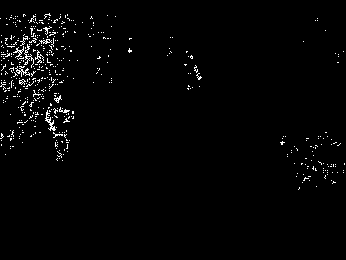person: (44, 93, 74, 161)
